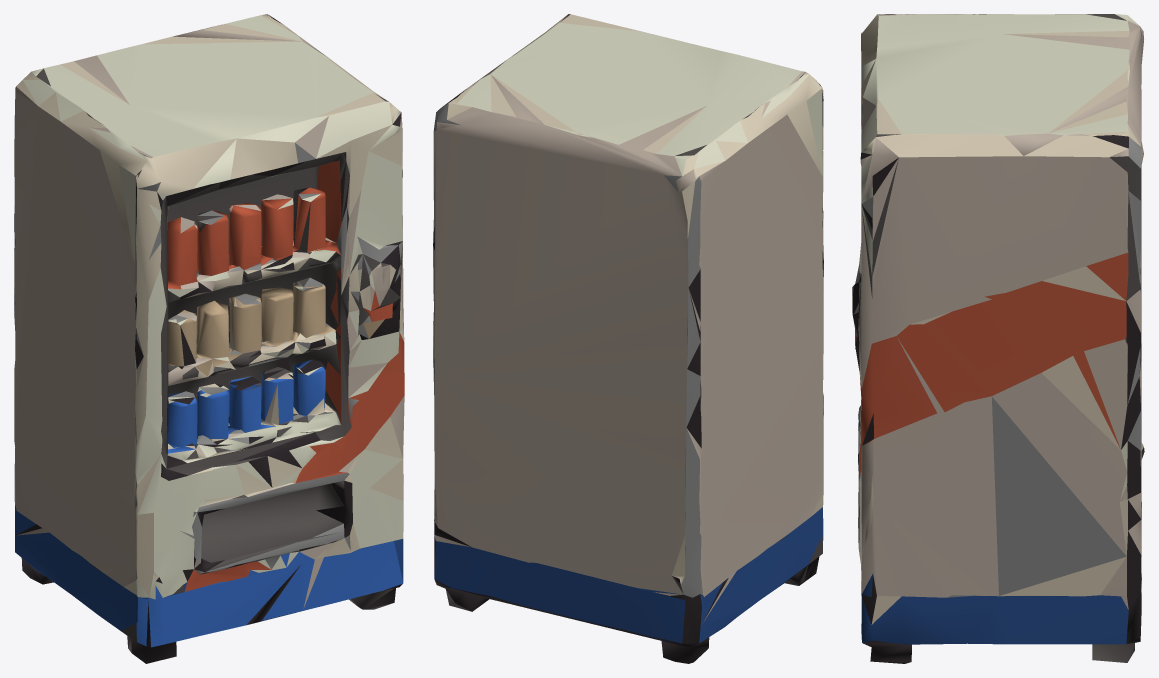
File: vending-BsfrGaKr.glb
3 views of the same model, side by side, from view 1: azimuth 30°, elevation 25°; view 2: azimuth 150°, elevation 25°; view 3: azimuth 270°, elevation 25° (orthographic). The views are drawn at different scales.
Parts seen in each view (by area): view 1: tripo_node_f48f1512-0c23-488c-bfd4-9a7b963d4b5f; view 2: tripo_node_f48f1512-0c23-488c-bfd4-9a7b963d4b5f; view 3: tripo_node_f48f1512-0c23-488c-bfd4-9a7b963d4b5f.
Part boxes in pixels (<box>): tripo_node_f48f1512-0c23-488c-bfd4-9a7b963d4b5f: <box>14,14,404,663</box>; tripo_node_f48f1512-0c23-488c-bfd4-9a7b963d4b5f: <box>433,14,823,663</box>; tripo_node_f48f1512-0c23-488c-bfd4-9a7b963d4b5f: <box>852,14,1144,663</box>.
Size of the model in its own units: 0.5423 by 0.9792 by 0.4912.
